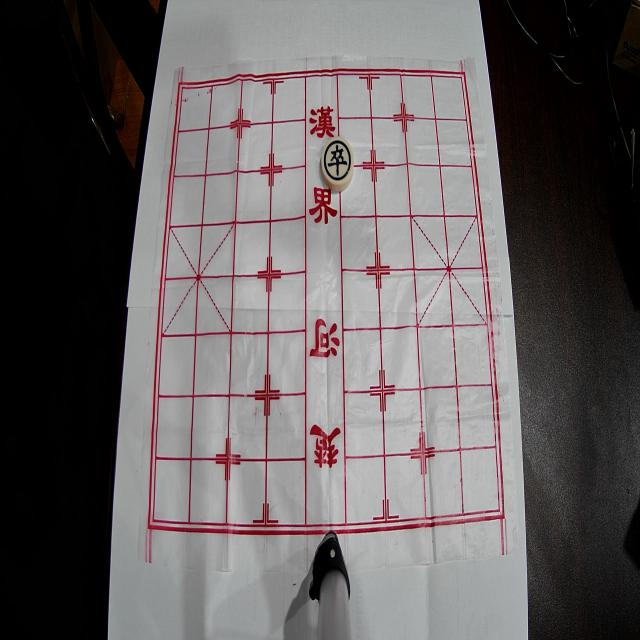black-soldier: (321, 136, 354, 192)
